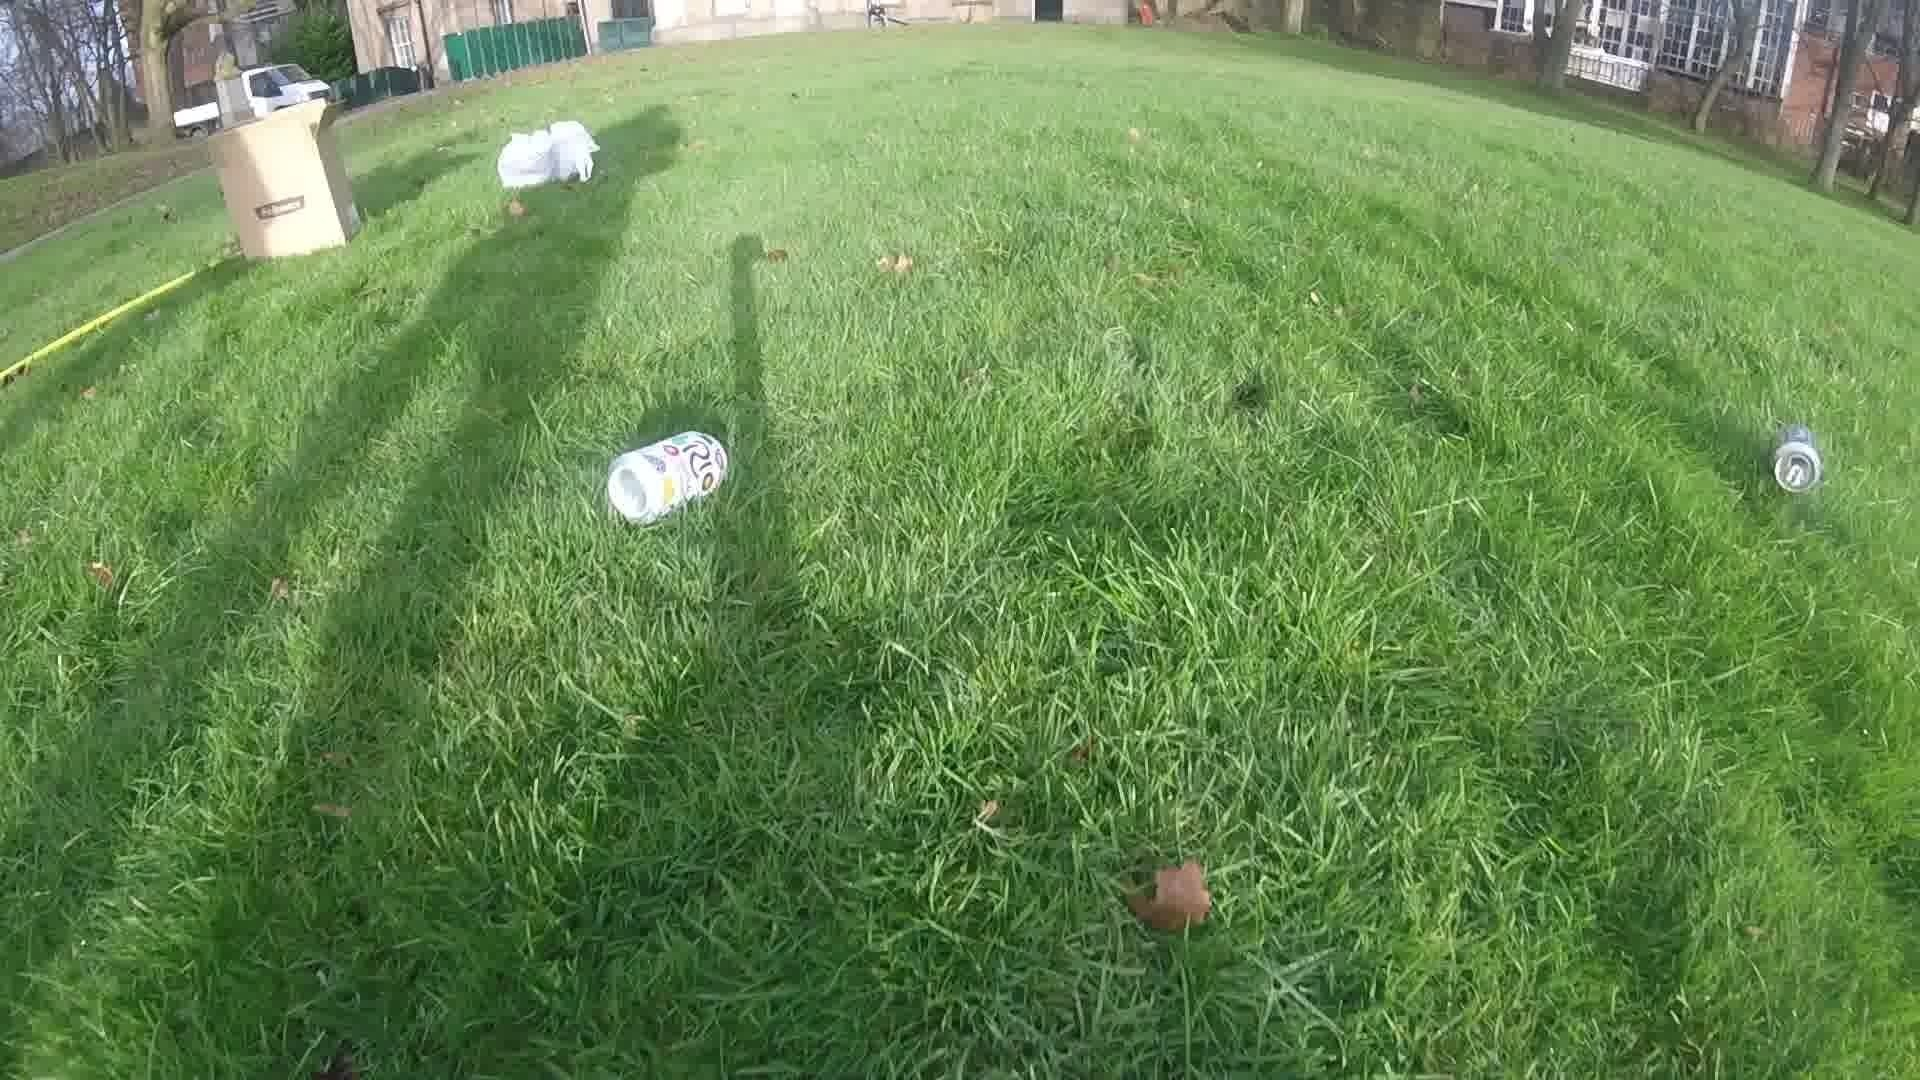litter: (203, 102, 359, 261), (608, 430, 732, 521), (495, 119, 599, 193), (1774, 423, 1825, 493)
